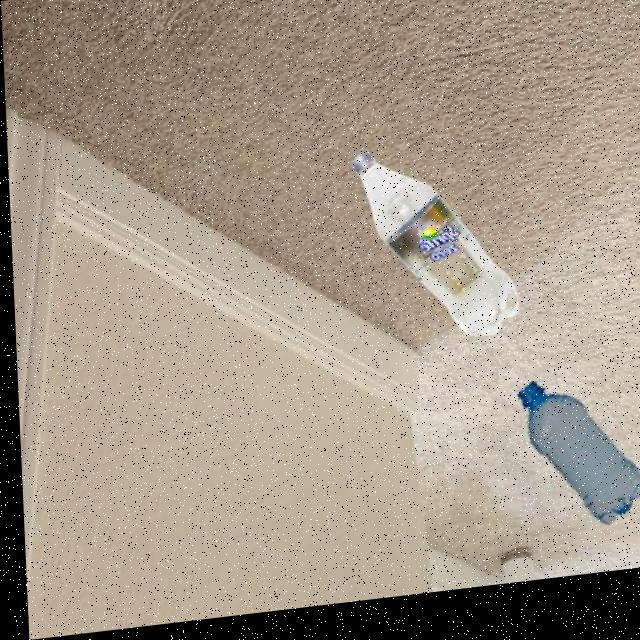plasticbottle: (445, 367, 640, 574)
